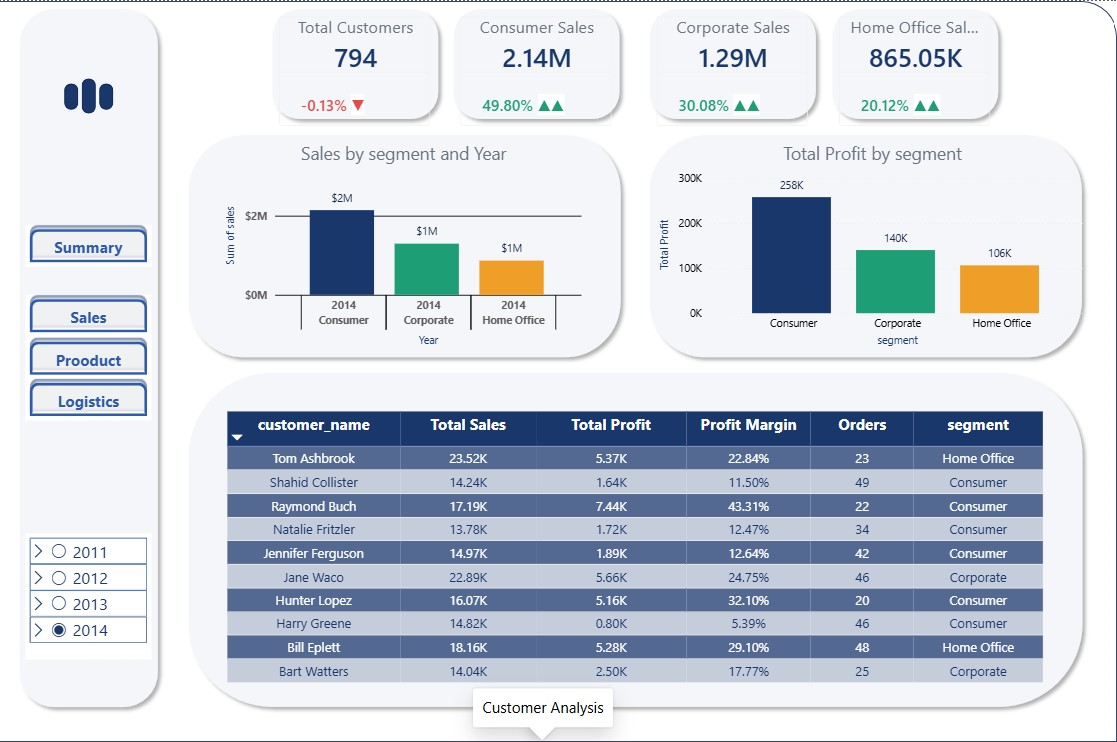

The dashboard page shown, as its layout file describes it:
{"tool":"powerbi","page":{"name":"Customer Analysis","canvas":[1280,850],"ordinal":2},"visuals":[{"type":"shape","box":[0,0,1280,848],"z":0},{"type":"shape","box":[16,0,176,816],"z":1000},{"type":"shape","box":[736,144,512,272],"z":2000},{"type":"shape","box":[208,416,1040,400],"z":3000},{"type":"shape","box":[208,144,512,272],"z":4000},{"type":"shape","box":[736,0,208,144],"z":5000},{"type":"shape","box":[512,0,208,144],"z":6000},{"type":"shape","box":[304,0,208,144],"z":7000},{"type":"shape","box":[944,0,208,144],"z":8000},{"type":"cardVisual","fields":{"Data":["KPIs.Total Customers"]},"box":[304,0,208,160],"z":9000},{"type":"cardVisual","fields":{"Data":["KPIs.Home Office Sales"]},"box":[944,0,208,160],"z":10000},{"type":"cardVisual","fields":{"Data":["KPIs.Corporate Sales"]},"box":[736,0,208,160],"z":11000},{"type":"cardVisual","fields":{"Data":["KPIs.Consumer Sales"]},"box":[512,0,208,160],"z":12000},{"type":"clusteredColumnChart","title":"Sales by segment and Year","fields":{"Y":["Sum(FactSales.sales)"],"Category":["FactSales.segment","Date Table.Year"]},"box":[256,160,416,240],"z":13000},{"type":"tableEx","fields":{"Values":["FactSales.customer_name","KPIs.Total Sales","KPIs.Total Profit","KPIs.Profit Margin","KPIs.Orders","FactSales.segment"]},"box":[256,464,944,320],"z":14000},{"type":"actionButton","box":[32,256,144,48],"z":15000},{"type":"actionButton","box":[32,384,144,48],"z":16000},{"type":"actionButton","box":[32,432,144,48],"z":17000},{"type":"listSlicer","fields":{"Values":["Date Table.Date.Variation.Date Hierarchy.Year","Date Table.Date.Variation.Date Hierarchy.Quarter","Date Table.Date.Variation.Date Hierarchy.Month","Date Table.Date.Variation.Date Hierarchy.Day"]},"box":[32,608,144,144],"z":18000},{"type":"columnChart","fields":{"Category":["FactSales.segment"],"Y":["KPIs.Total Profit"]},"box":[752,160,496,240],"z":19000},{"type":"shape","box":[96,88,16,40],"z":20000},{"type":"shape","box":[116,94,16,30],"z":21000},{"type":"shape","box":[76,94,16,30],"z":22000},{"type":"actionButton","box":[32,336,144,48],"z":23000}]}

Visuals, with their boxes on the page's 1280x850 design canvas (x1, y1, x2, y2). These are canvas units, not pixel positions in the 1117x742 screenshot, which may show the page scaled, cropped or inside an application window:
shape: [left=0, top=0, right=1280, bottom=848]
shape: [left=16, top=0, right=192, bottom=816]
shape: [left=736, top=144, right=1248, bottom=416]
shape: [left=208, top=416, right=1248, bottom=816]
shape: [left=208, top=144, right=720, bottom=416]
shape: [left=736, top=0, right=944, bottom=144]
shape: [left=512, top=0, right=720, bottom=144]
shape: [left=304, top=0, right=512, bottom=144]
shape: [left=944, top=0, right=1152, bottom=144]
cardVisual - KPIs.Total Customers: [left=304, top=0, right=512, bottom=160]
cardVisual - KPIs.Home Office Sales: [left=944, top=0, right=1152, bottom=160]
cardVisual - KPIs.Corporate Sales: [left=736, top=0, right=944, bottom=160]
cardVisual - KPIs.Consumer Sales: [left=512, top=0, right=720, bottom=160]
"Sales by segment and Year" clusteredColumnChart: [left=256, top=160, right=672, bottom=400]
tableEx - FactSales.customer_name x KPIs.Total Sales: [left=256, top=464, right=1200, bottom=784]
actionButton: [left=32, top=256, right=176, bottom=304]
actionButton: [left=32, top=384, right=176, bottom=432]
actionButton: [left=32, top=432, right=176, bottom=480]
listSlicer - Date Table.Date.Variation.Date Hierarchy.Year x Date Table.Date.Variation.Date Hierarchy.Quarter: [left=32, top=608, right=176, bottom=752]
columnChart - FactSales.segment x KPIs.Total Profit: [left=752, top=160, right=1248, bottom=400]
shape: [left=96, top=88, right=112, bottom=128]
shape: [left=116, top=94, right=132, bottom=124]
shape: [left=76, top=94, right=92, bottom=124]
actionButton: [left=32, top=336, right=176, bottom=384]
